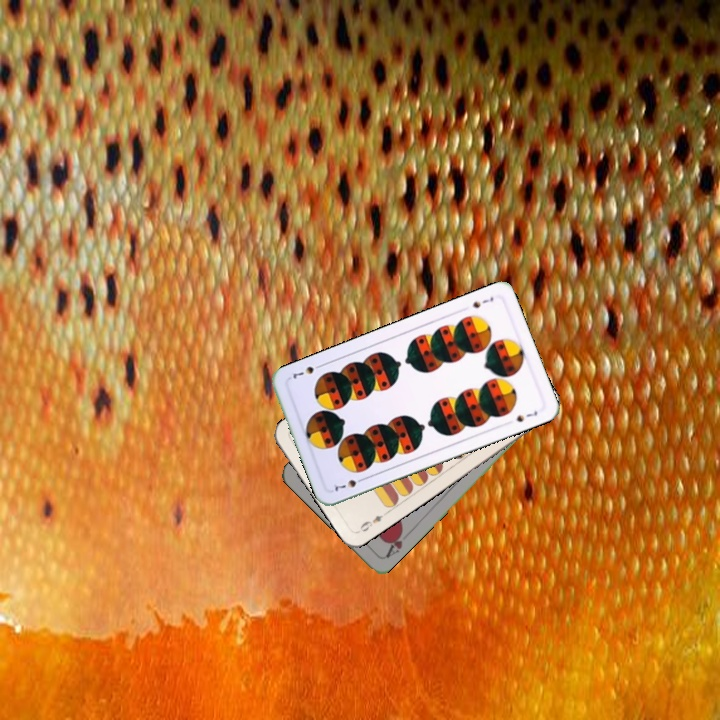E9: (354, 507, 390, 535)
HA: (381, 524, 406, 561)
S7: (330, 473, 368, 494), (469, 292, 496, 311)
